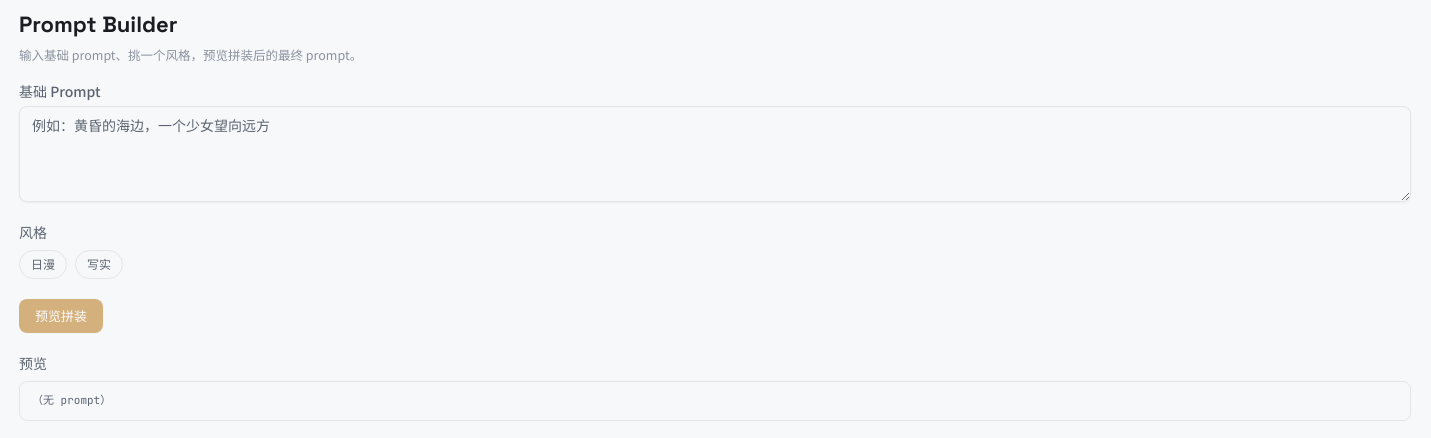
Test: PromptBuilder (container build flow) › shows an error message when build fails
The width and height of the screenshot is (1431, 438).
In the text box labelled "基础 Prompt": (715, 154) [19, 106, 1411, 202], type "海边少女"
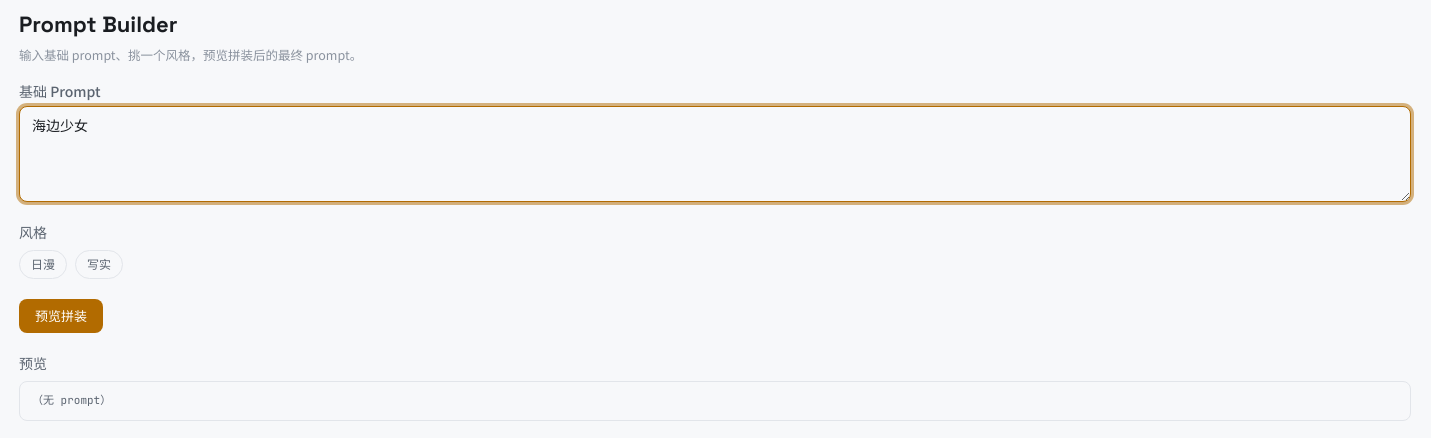
Click the button "预览拼装": (61, 316) [19, 299, 103, 333]
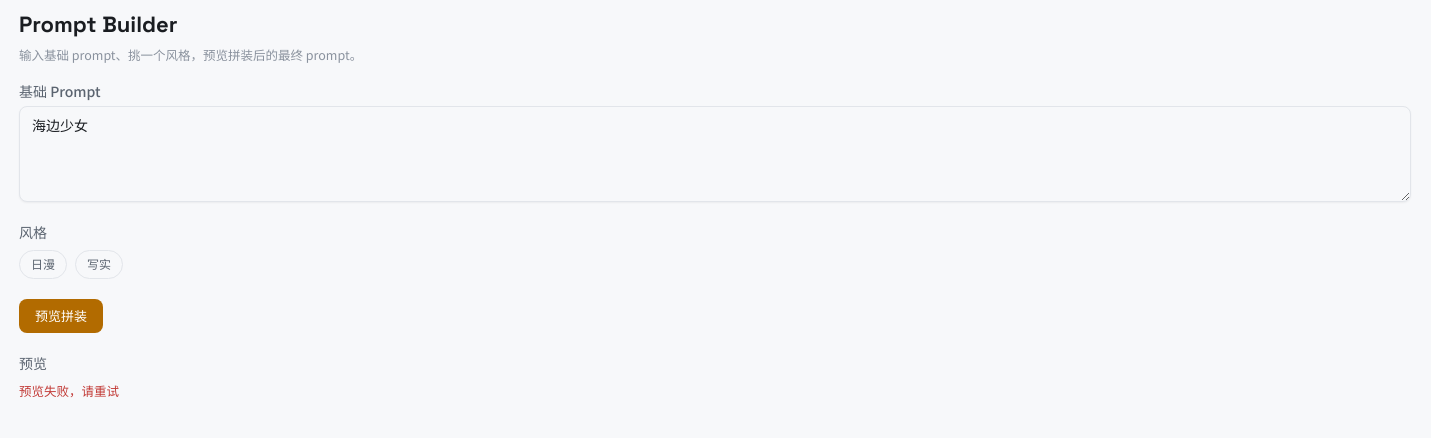
expect the text "预览失败，请重试" is shown: met, box [19, 381, 119, 400]
